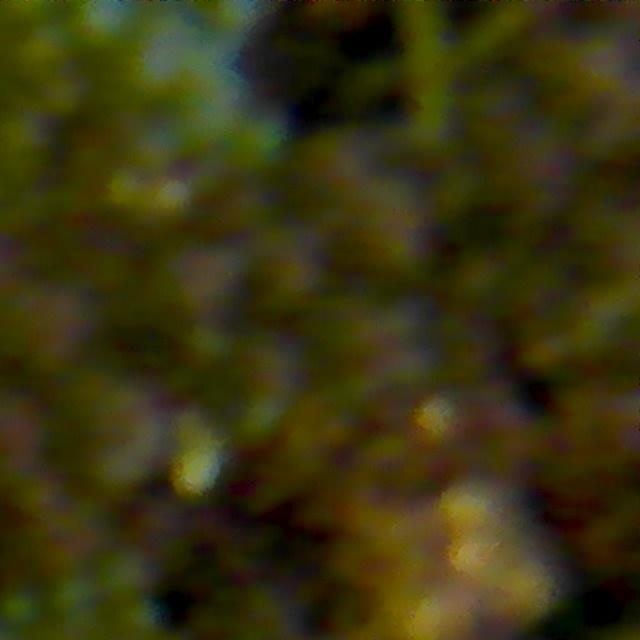SeaGrape: (0, 108, 58, 177), (71, 0, 139, 50), (412, 393, 470, 448), (99, 545, 156, 599), (15, 24, 70, 79), (39, 71, 90, 120), (0, 586, 46, 634), (51, 571, 97, 616), (113, 597, 160, 640), (0, 0, 58, 26)
